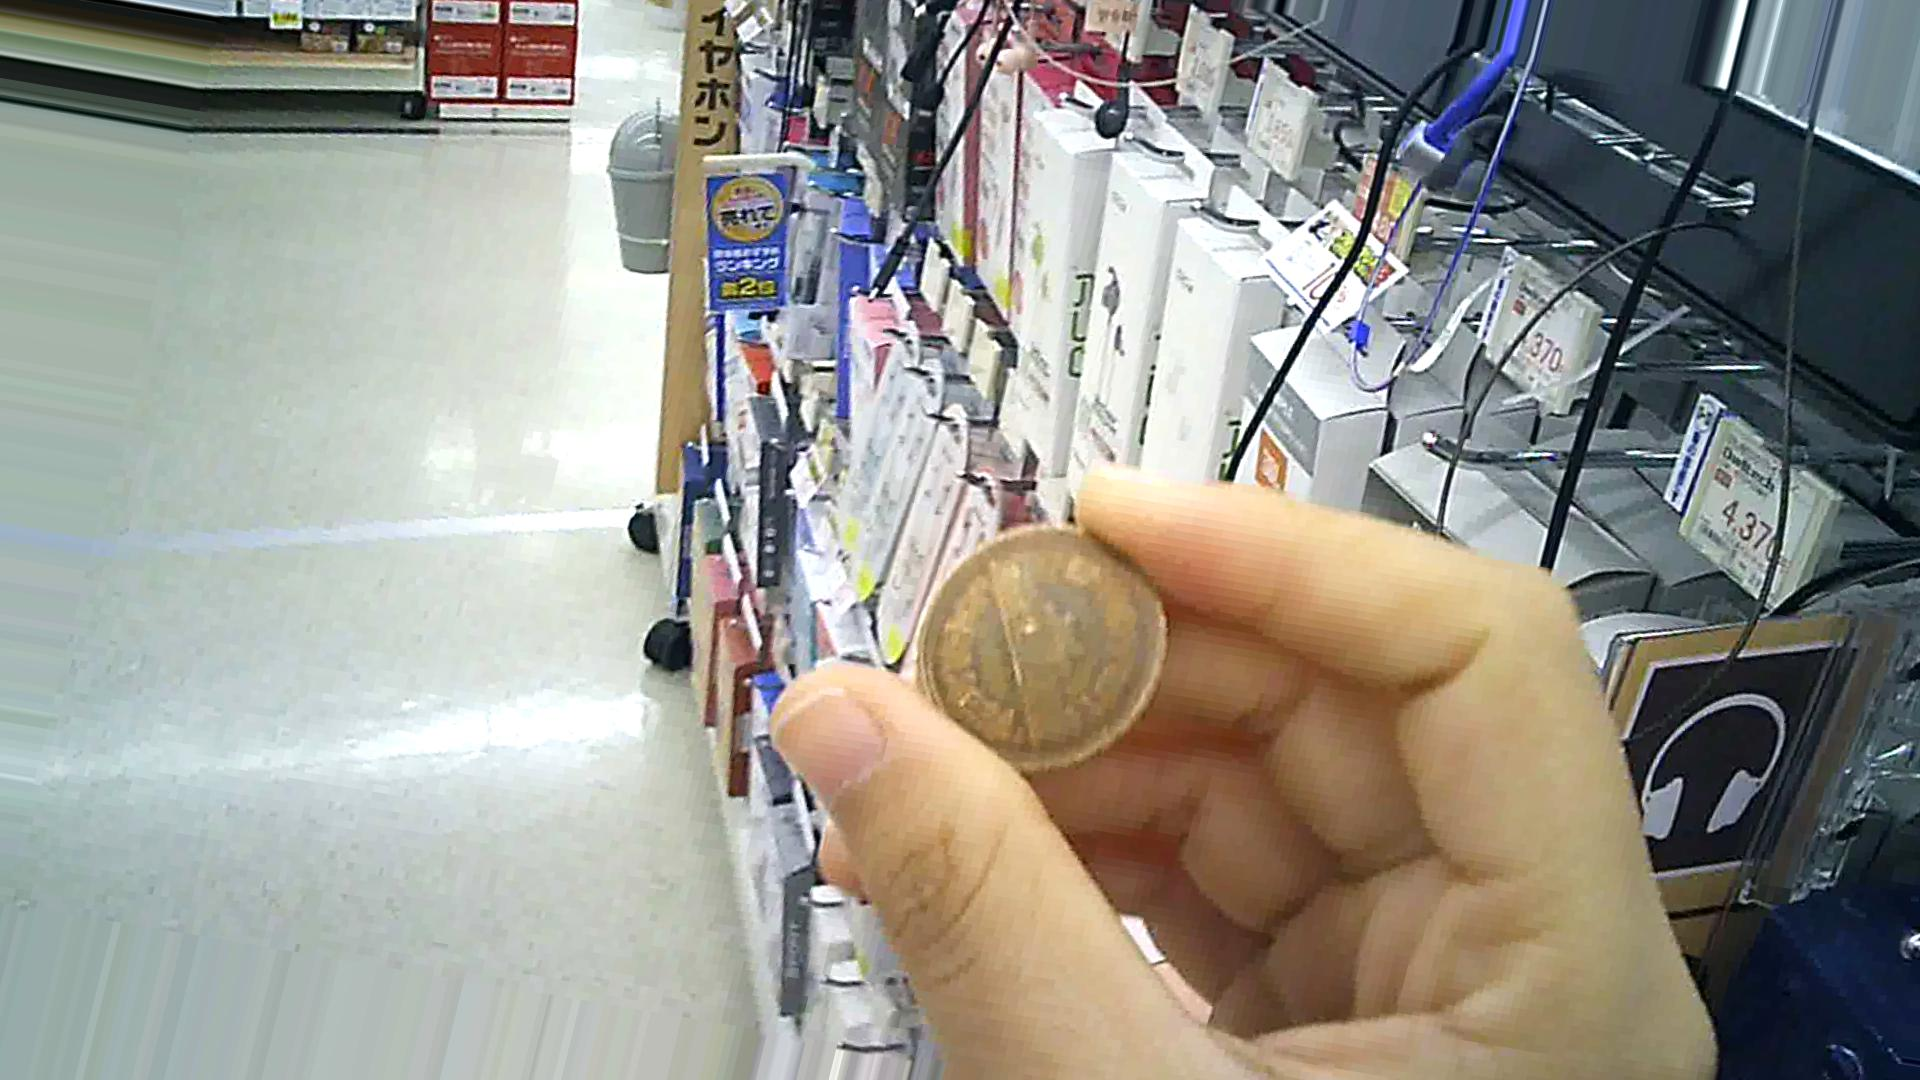10 Yen: (913, 514, 1145, 798)
